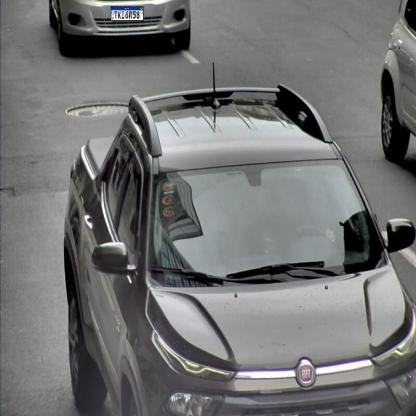PlacaM: (110, 6, 144, 21)
